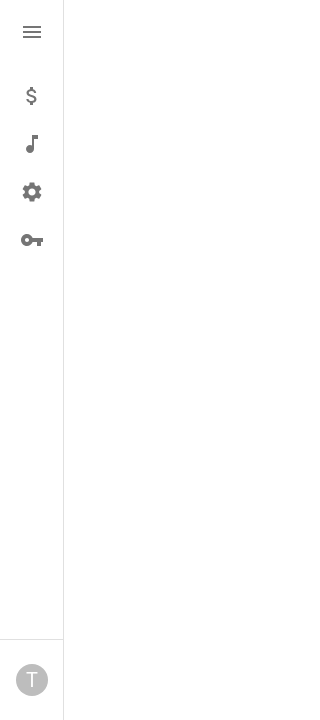
Test: SideMenu › deve exibir os itens do menu quando expandido
The image size is (320, 720).
Click the button named "toggle menu": (32, 32) x1=12 y1=12 x2=52 y2=52
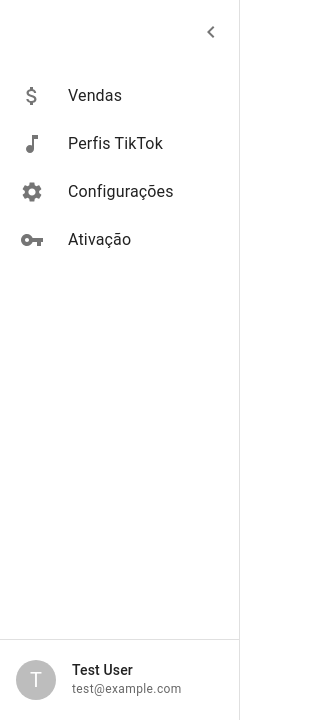
Result: the text "Vendas" is shown at x1=68 y1=86 x2=122 y2=105
Result: the text "Configurações" is shown at x1=68 y1=182 x2=174 y2=201
